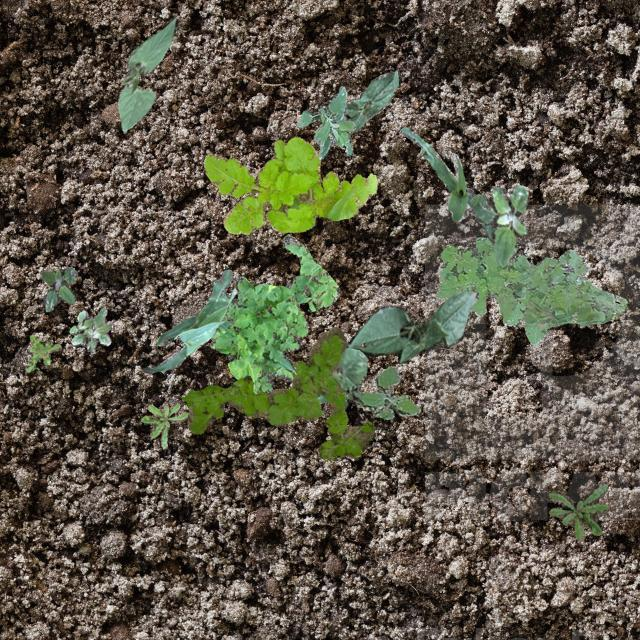crop: (399, 127, 494, 240), (142, 268, 235, 372), (345, 290, 477, 362), (116, 16, 178, 130), (344, 70, 398, 134), (316, 348, 366, 402)
weed: (180, 326, 374, 460), (434, 236, 626, 344), (210, 234, 338, 380), (202, 136, 376, 234), (215, 276, 308, 392), (469, 185, 526, 266), (296, 84, 354, 158), (548, 482, 608, 540), (356, 364, 420, 418), (140, 402, 188, 448), (68, 306, 112, 352), (40, 266, 76, 310), (24, 334, 60, 372), (340, 382, 360, 408)
